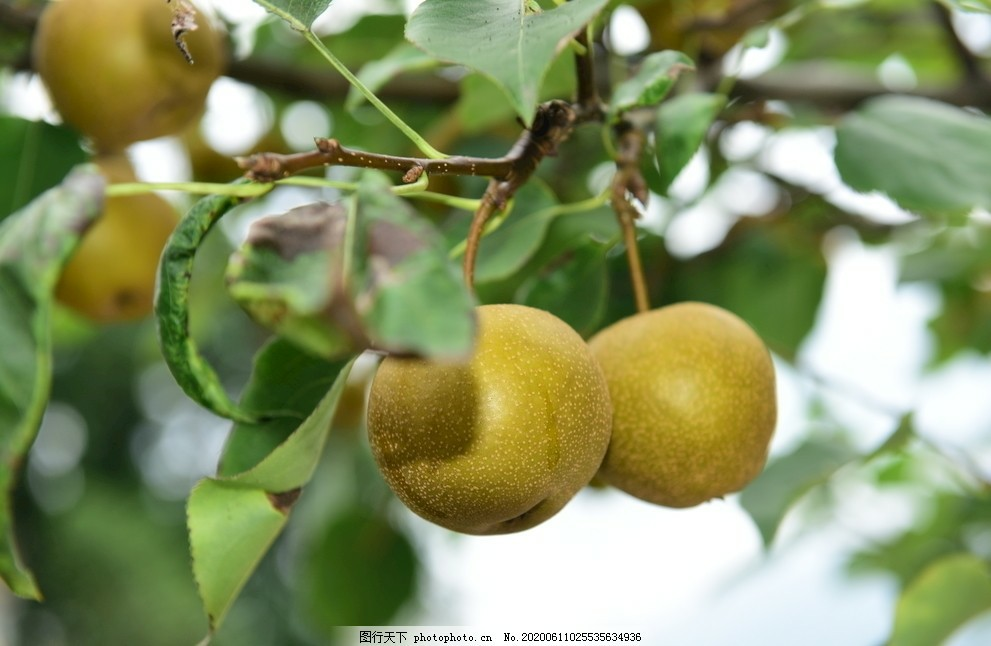pear: (363, 301, 610, 533), (582, 303, 778, 509), (41, 141, 187, 324), (34, 1, 220, 144)
